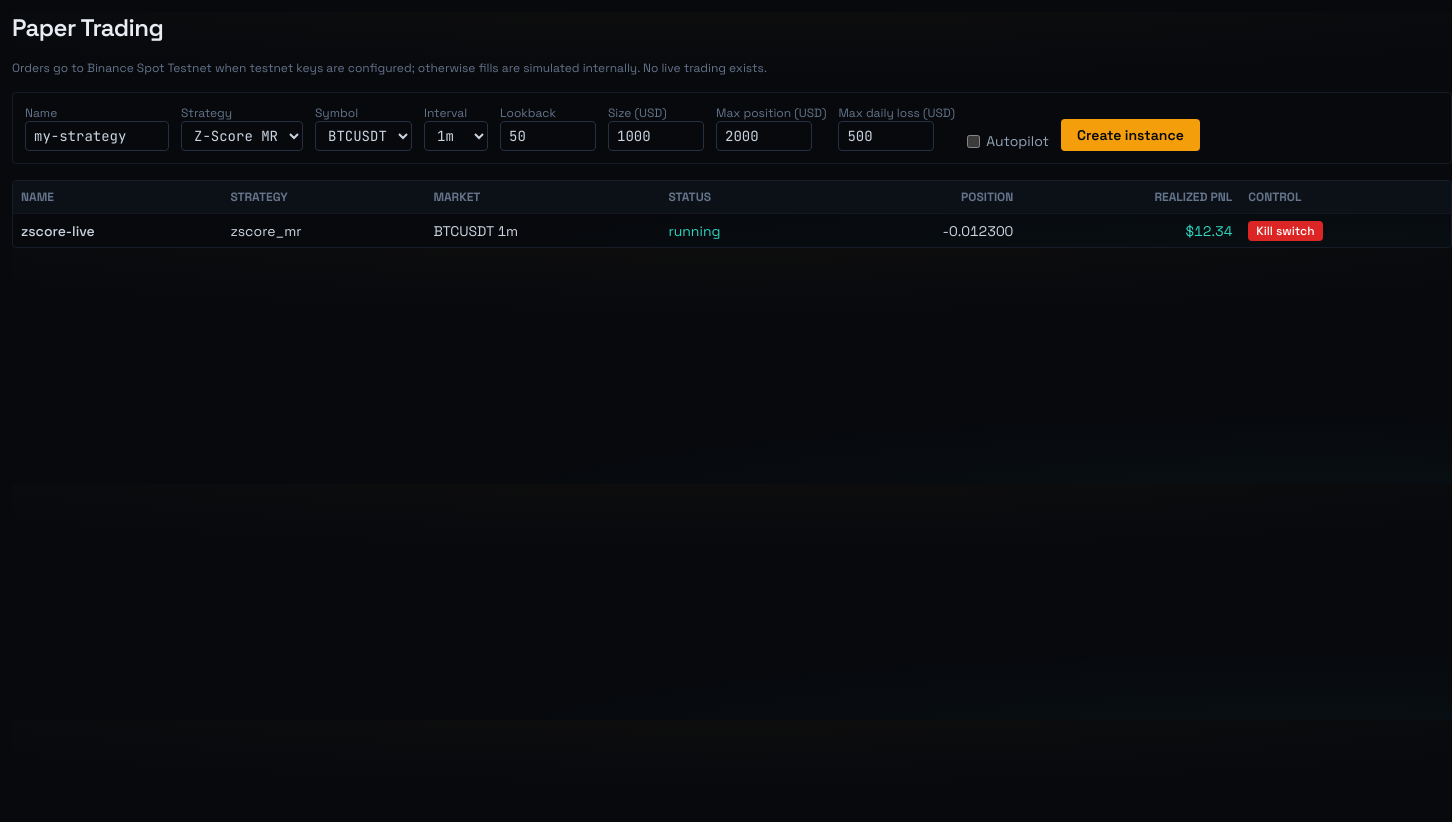
Test: PaperPage › selecting an instance shows orders and equity
Click the text "zscore-live" at (58, 230), box x1=13 y1=214 x2=222 y2=247
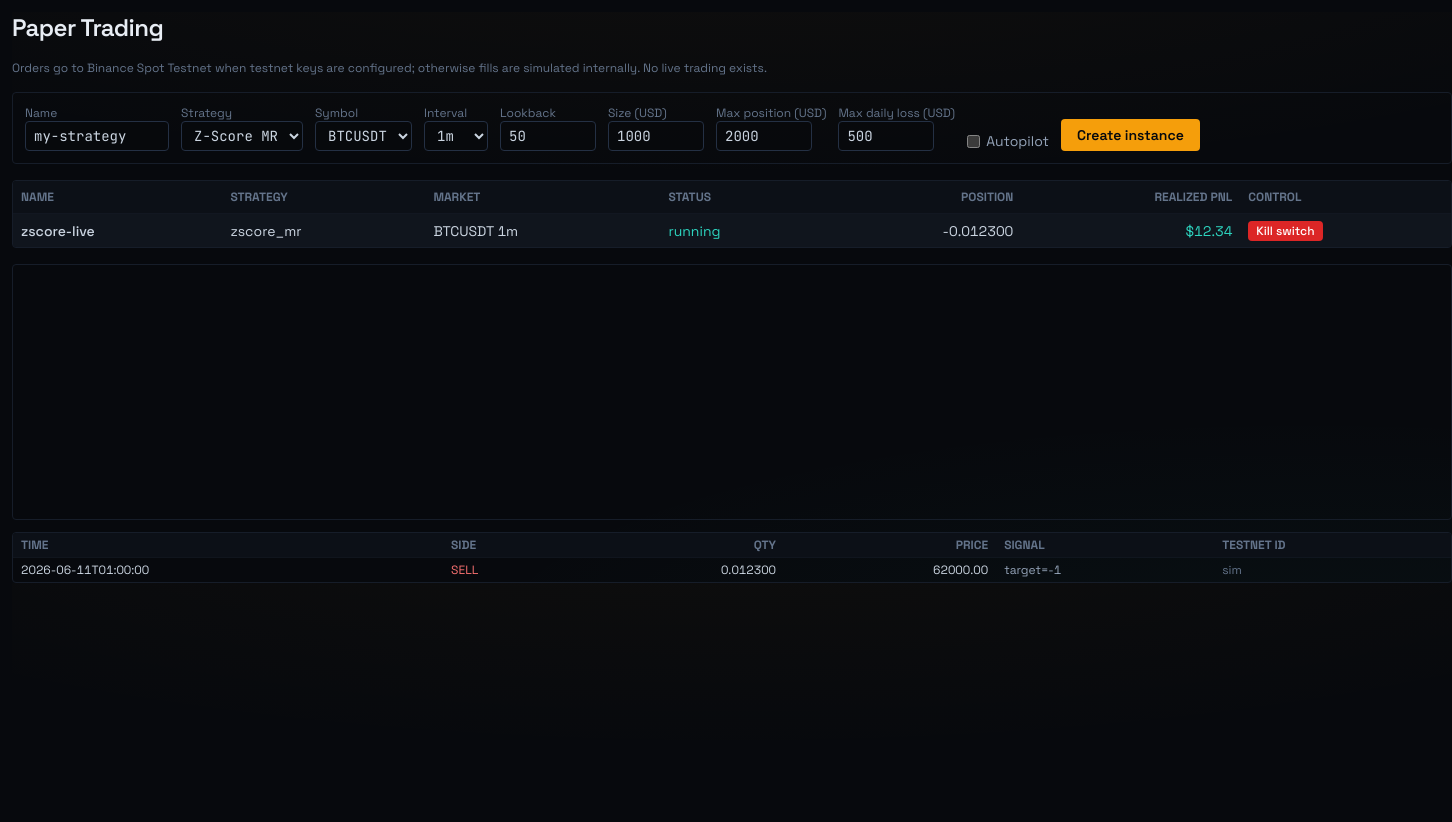
Result: the table with test id "paper-orders" is shown at x1=13 y1=533 x2=1451 y2=582
Result: the text "SELL" is shown at x1=443 y1=558 x2=572 y2=582
